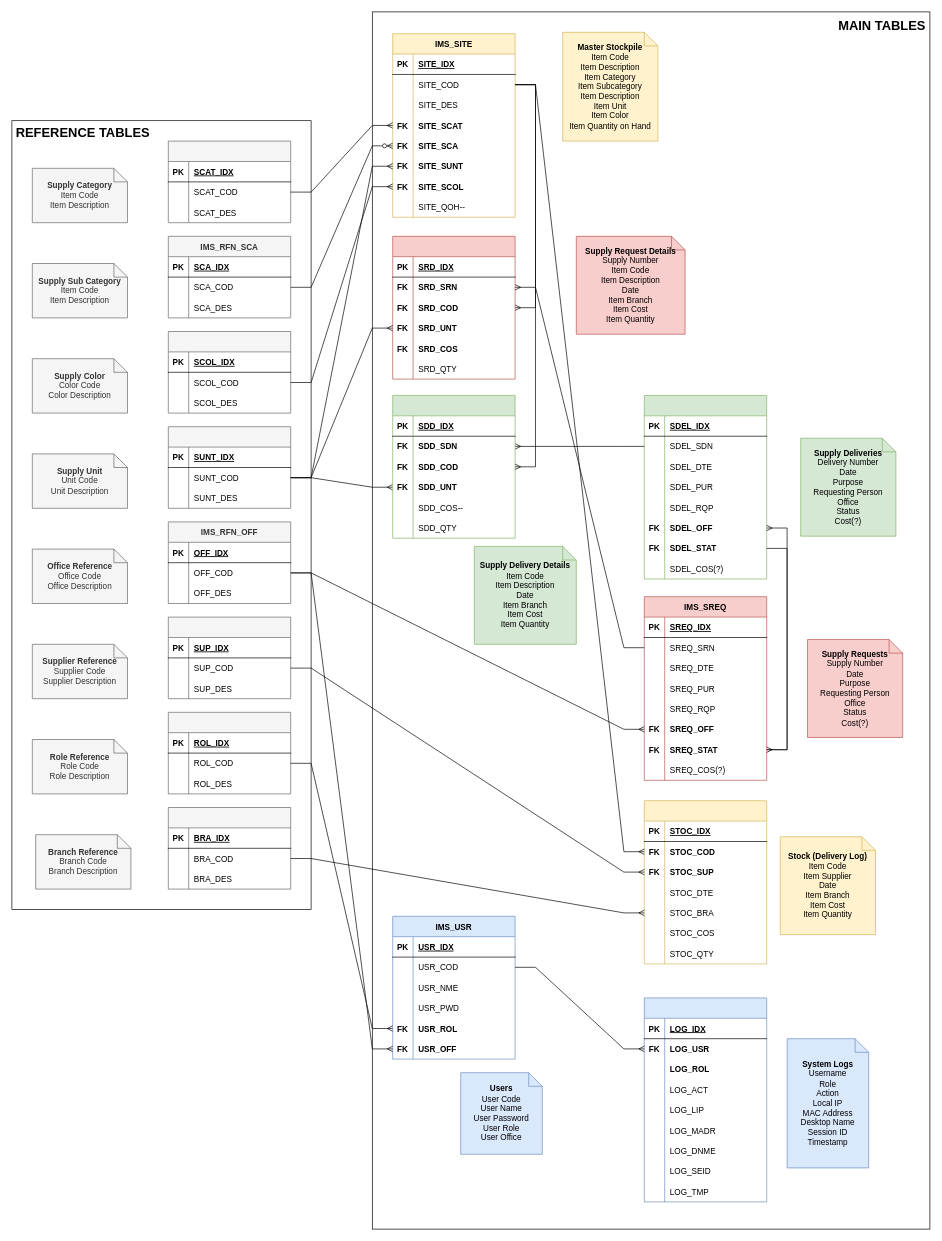
Image size: 942x1241. Some labels were removed from this diagram. Here are the shapes that lost their labels. From the top down, the box of each, then its label:
(168, 140, 291, 223): IMS_RFN_SCAT
(392, 236, 515, 379): IMS_SRD
(168, 331, 291, 413): IMS_RFN_SCOL
(168, 426, 291, 508): IMS_RFN_SUNT
(392, 395, 515, 538): IMS_SDD
(644, 395, 767, 579): IMS_SDEL
(168, 616, 291, 699): IMS_RFN_SUP
(168, 712, 291, 794): IMS_RFN_ROL
(168, 807, 291, 889): IMS_RFN_BRA
(644, 800, 767, 964): IMS_STOC
(644, 997, 767, 1202): IMS_LOG
